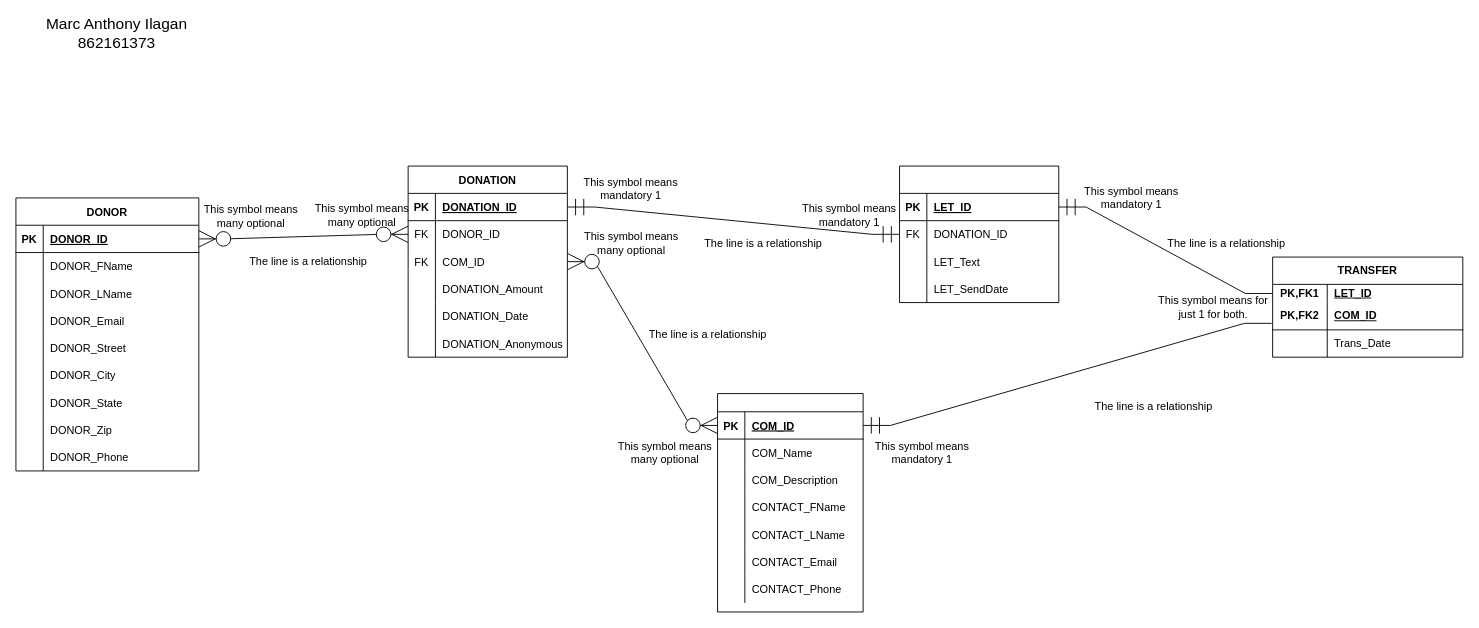
Some shapes in this 1479 by 628 pixel diagram are drawn without their labels. The shapes that lost their labels are listed below. From the top down, each one's box as (x1, y1, x2, y2) in pixels, then its label:
(899, 165, 1059, 303): LETTER
(717, 393, 863, 612): COMPANY
